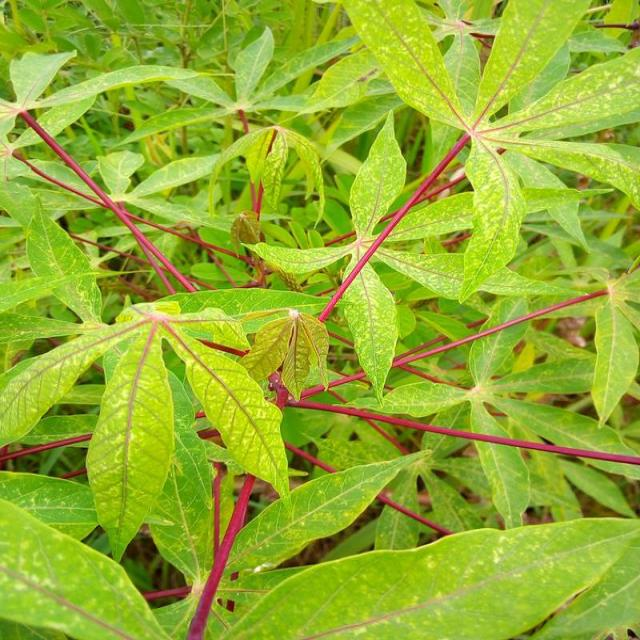cassava leaf: (1, 1, 638, 637), (84, 317, 174, 562)
